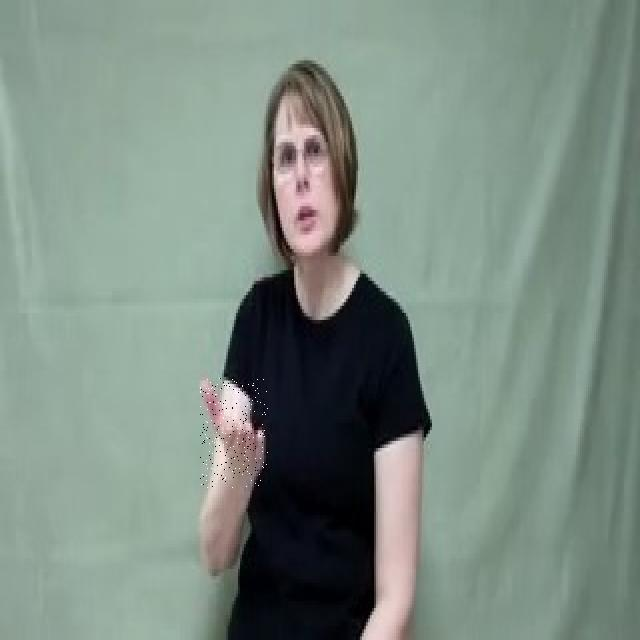thank-you: (200, 378, 268, 488)
